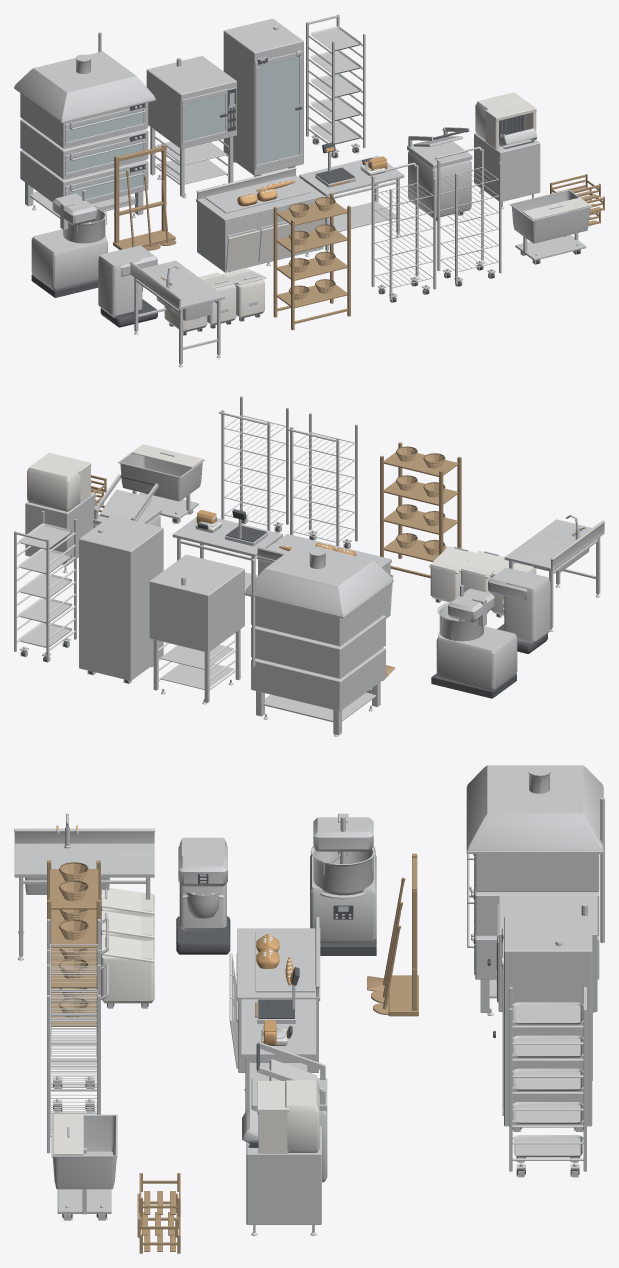
File: bakery-and-cafe-bakery-production-room-b0370ddc__22246.glb
3 views of the same model, one above another, from view 1: azimuth 30°, elevation 25°; view 2: azimuth 150°, elevation 25°; view 3: azimuth 270°, elevation 25° (orthographic). The views are drawn at different scales.
Visible parts, largest first — view 1: 000-deck-oven-3-deck/0, 001-convection-bakery-oven/0, 011-banneton-rack/0, 007-flour-bin-bench/0, 002-proofing-cabinet/0, 002-proofing-cabinet/door (×2), 004-spiral-dough-mixer/1, 003-sheet-pan-rack/0, 009-dough-divider/0, 006-bakery-prep-sink/0, 010-bread-slicer/0, 014-dough-trough/0 (+17 smaller); view 2: 000-deck-oven-3-deck/0, 002-proofing-cabinet/0, 001-convection-bakery-oven/0, 011-banneton-rack/0, 004-spiral-dough-mixer/1, 003-sheet-pan-rack/0, 006-bakery-prep-sink/0, 014-dough-trough/0, 005-planetary-mixer/1, 012-cooling-rack-trolley/0, 013-cooling-rack-trolley/0, 015-ingredient-bin-set/2 (+8 smaller); view 3: 000-deck-oven-3-deck/0, 002-proofing-cabinet/0, 003-sheet-pan-rack/0, 004-spiral-dough-mixer/1, 006-bakery-prep-sink/0, 011-banneton-rack/0, 010-bread-slicer/0, 007-flour-bin-bench/0, 015-ingredient-bin-set/2, 014-dough-trough/0, 013-cooling-rack-trolley/0, 010-bread-slicer/1 (+12 smaller).
Part boxes in pixels (x1=…): 000-deck-oven-3-deck/0: x1=14, y1=32, x2=155, y2=218; 001-convection-bakery-oven/0: x1=146, y1=56, x2=236, y2=198; 011-banneton-rack/0: x1=273, y1=193, x2=350, y2=330; 007-flour-bin-bench/0: x1=196, y1=167, x2=324, y2=272; 002-proofing-cabinet/0: x1=223, y1=18, x2=303, y2=176; 002-proofing-cabinet/door (×2): x1=255, y1=51, x2=303, y2=169; 004-spiral-dough-mixer/1: x1=31, y1=190, x2=107, y2=290; 003-sheet-pan-rack/0: x1=306, y1=14, x2=365, y2=158; 009-dough-divider/0: x1=407, y1=127, x2=472, y2=221; 006-bakery-prep-sink/0: x1=130, y1=260, x2=224, y2=367; 010-bread-slicer/0: x1=474, y1=114, x2=540, y2=208; 014-dough-trough/0: x1=509, y1=189, x2=592, y2=264; 000-deck-oven-3-deck/0: x1=244, y1=542, x2=393, y2=736; 002-proofing-cabinet/0: x1=79, y1=515, x2=163, y2=683; 001-convection-bakery-oven/0: x1=149, y1=554, x2=244, y2=704; 011-banneton-rack/0: x1=380, y1=442, x2=461, y2=578; 004-spiral-dough-mixer/1: x1=436, y1=585, x2=517, y2=690; 003-sheet-pan-rack/0: x1=14, y1=511, x2=76, y2=662; 006-bakery-prep-sink/0: x1=504, y1=514, x2=604, y2=631; 014-dough-trough/0: x1=118, y1=452, x2=204, y2=523; 005-planetary-mixer/1: x1=488, y1=567, x2=550, y2=644; 012-cooling-rack-trolley/0: x1=287, y1=413, x2=357, y2=548; 013-cooling-rack-trolley/0: x1=218, y1=396, x2=288, y2=532; 015-ingredient-bin-set/2: x1=429, y1=546, x2=536, y2=615; 000-deck-oven-3-deck/0: x1=466, y1=765, x2=604, y2=1015; 002-proofing-cabinet/0: x1=501, y1=916, x2=592, y2=1131; 003-sheet-pan-rack/0: x1=509, y1=987, x2=586, y2=1177; 004-spiral-dough-mixer/1: x1=310, y1=813, x2=376, y2=942; 006-bakery-prep-sink/0: x1=14, y1=813, x2=155, y2=960; 011-banneton-rack/0: x1=47, y1=860, x2=100, y2=1054; 010-bread-slicer/0: x1=242, y1=1109, x2=321, y2=1235; 007-flour-bin-bench/0: x1=232, y1=917, x2=320, y2=1072; 015-ingredient-bin-set/2: x1=101, y1=888, x2=154, y2=1003; 014-dough-trough/0: x1=51, y1=1114, x2=117, y2=1220; 013-cooling-rack-trolley/0: x1=47, y1=963, x2=108, y2=1153; 010-bread-slicer/1: x1=257, y1=1080, x2=319, y2=1153.
Bounding box in the file's own units: 7.5 × 2.26 × 5.48.
